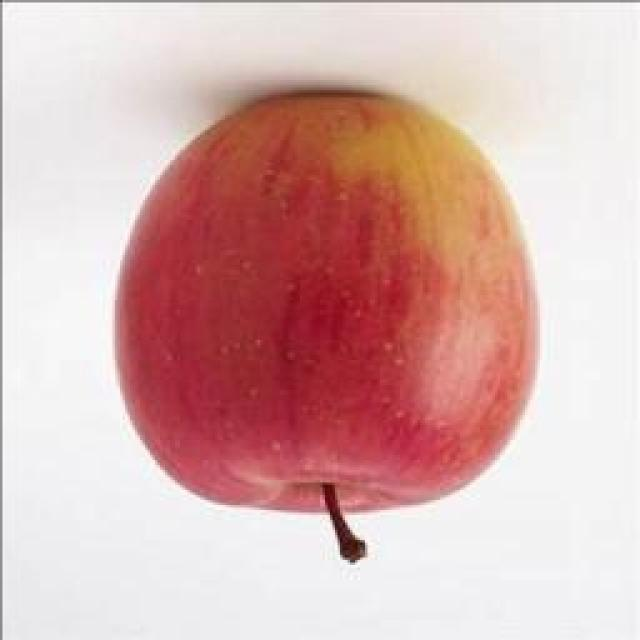apple: (112, 86, 541, 516)
